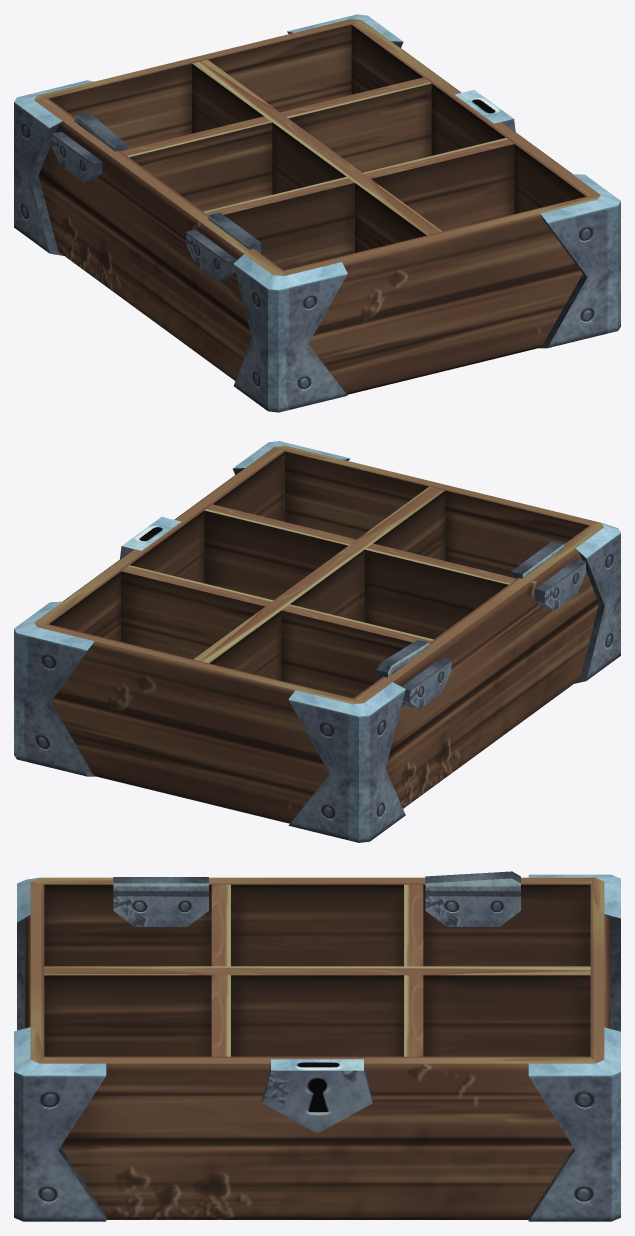
File: Sm_Poison_Box.fbx
3 views of the same model, one above another, from view 1: azimuth 30°, elevation 25°; view 2: azimuth 150°, elevation 25°; view 3: azimuth 270°, elevation 25° (orthographic). The views are drawn at different scales.
Parts seen in each view (by area): view 1: Sm_Poison_Box; view 2: Sm_Poison_Box; view 3: Sm_Poison_Box.
Part boxes in pixels (box(x1,y1,x2,y2)): Sm_Poison_Box: box(14, 14, 620, 412); Sm_Poison_Box: box(14, 441, 620, 842); Sm_Poison_Box: box(14, 871, 620, 1221).
Bounding box in the file's own units: 116 × 45.35 × 148.
1 material, 1 textured.
